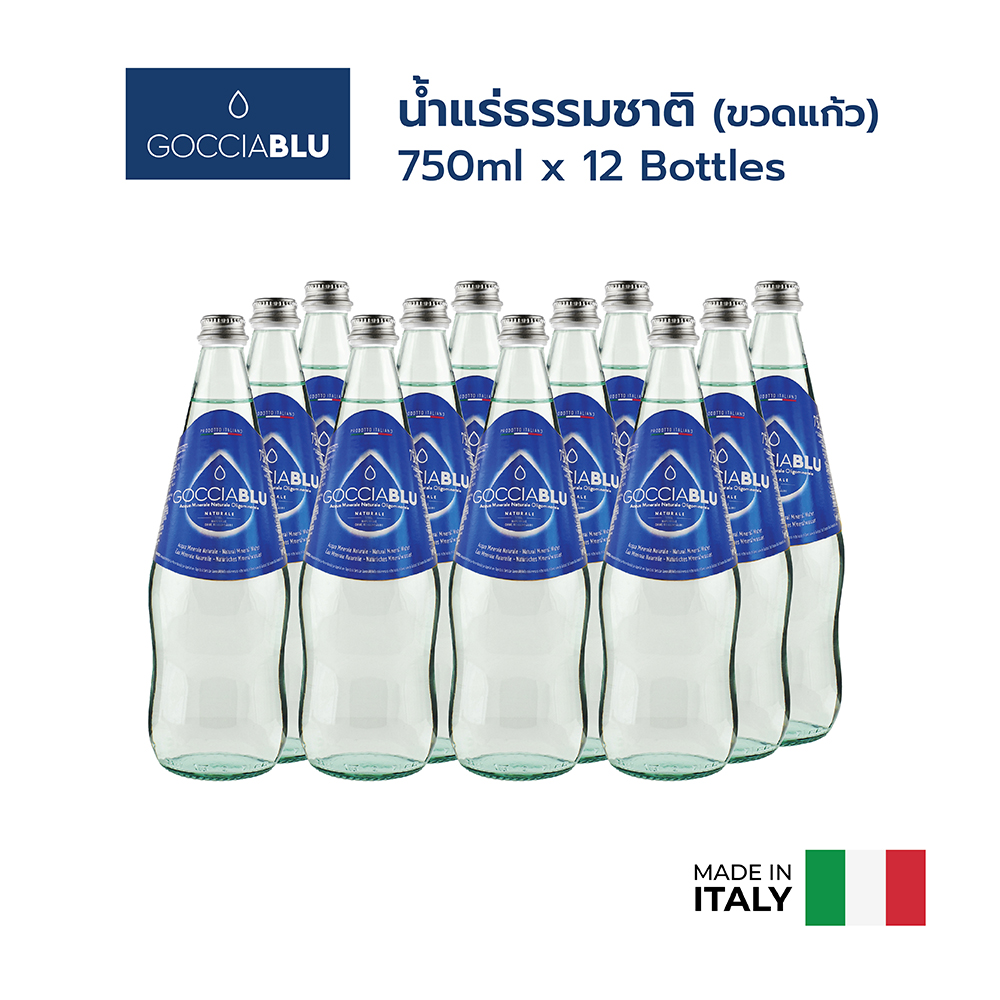glass_bottle: (123, 254, 885, 808)
